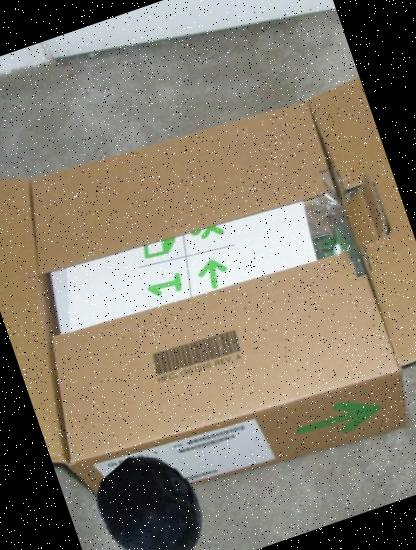Blueberry: (79, 438, 225, 550)
